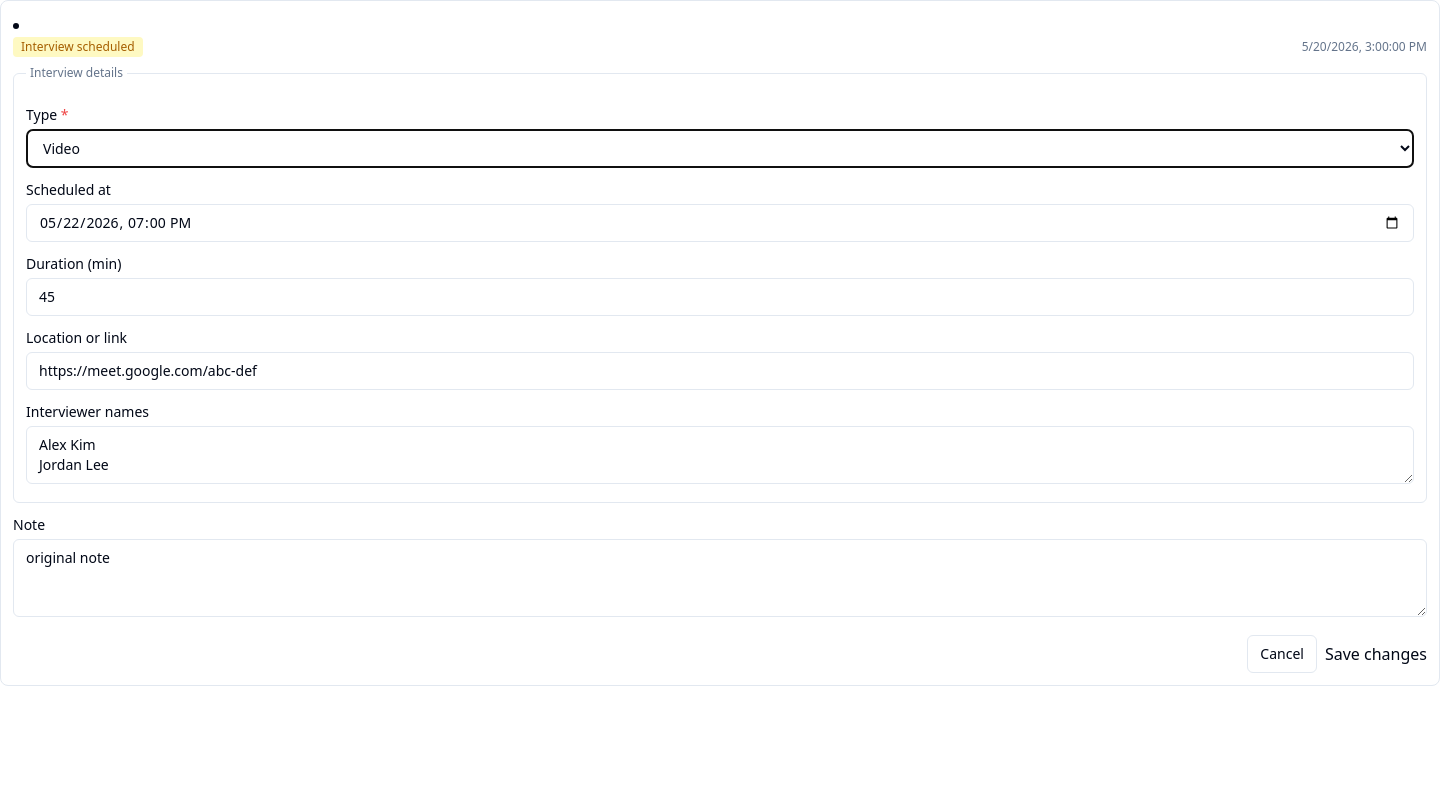
EventListItem — inline edit form › blocks save when the type was cleared
The width and height of the screenshot is (1440, 810).
Select "Select…" in the dropdown labelled "Type *" at point(720, 148), box [26,129,1414,168]
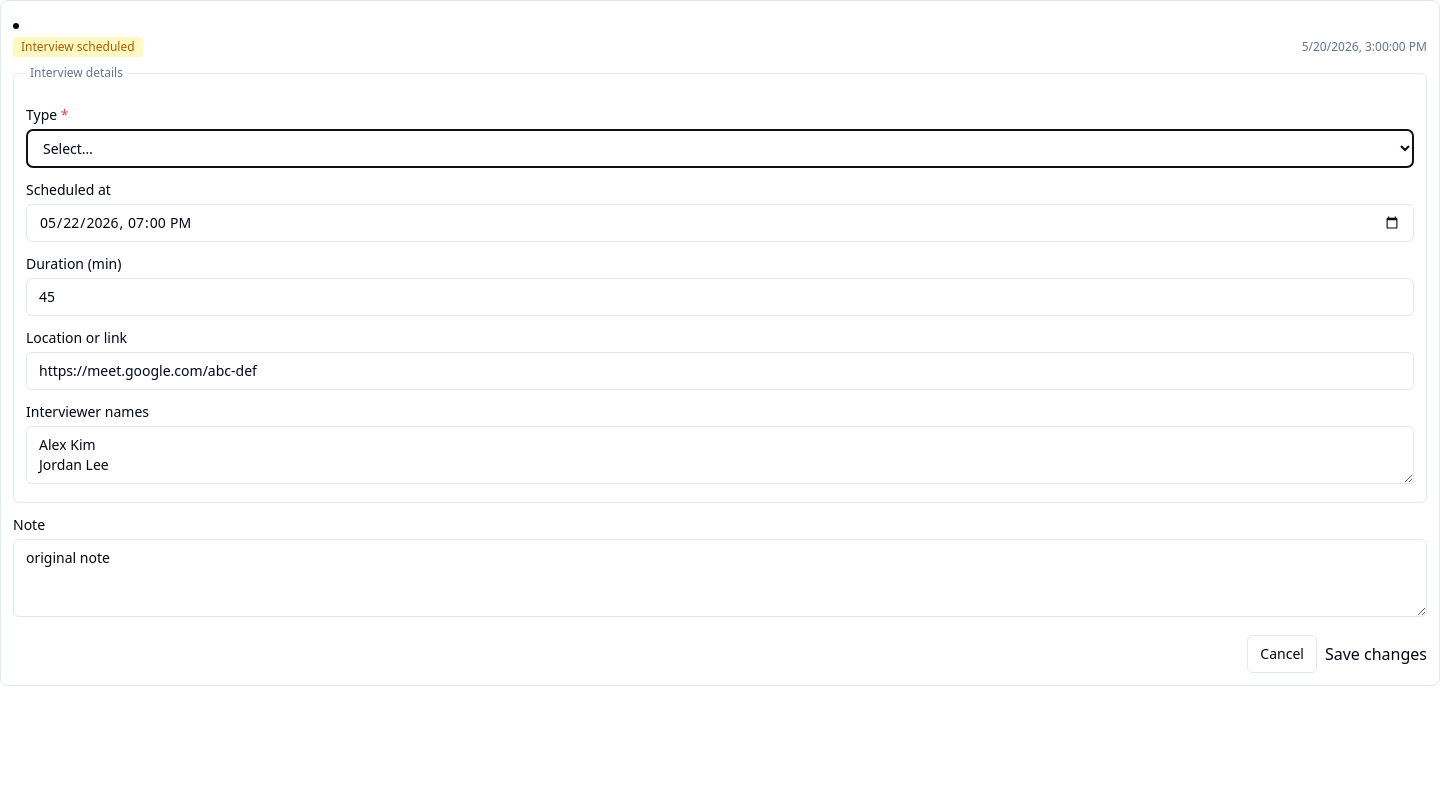
Click the button "Save changes" at point(1376, 654), box [1325,635,1427,673]
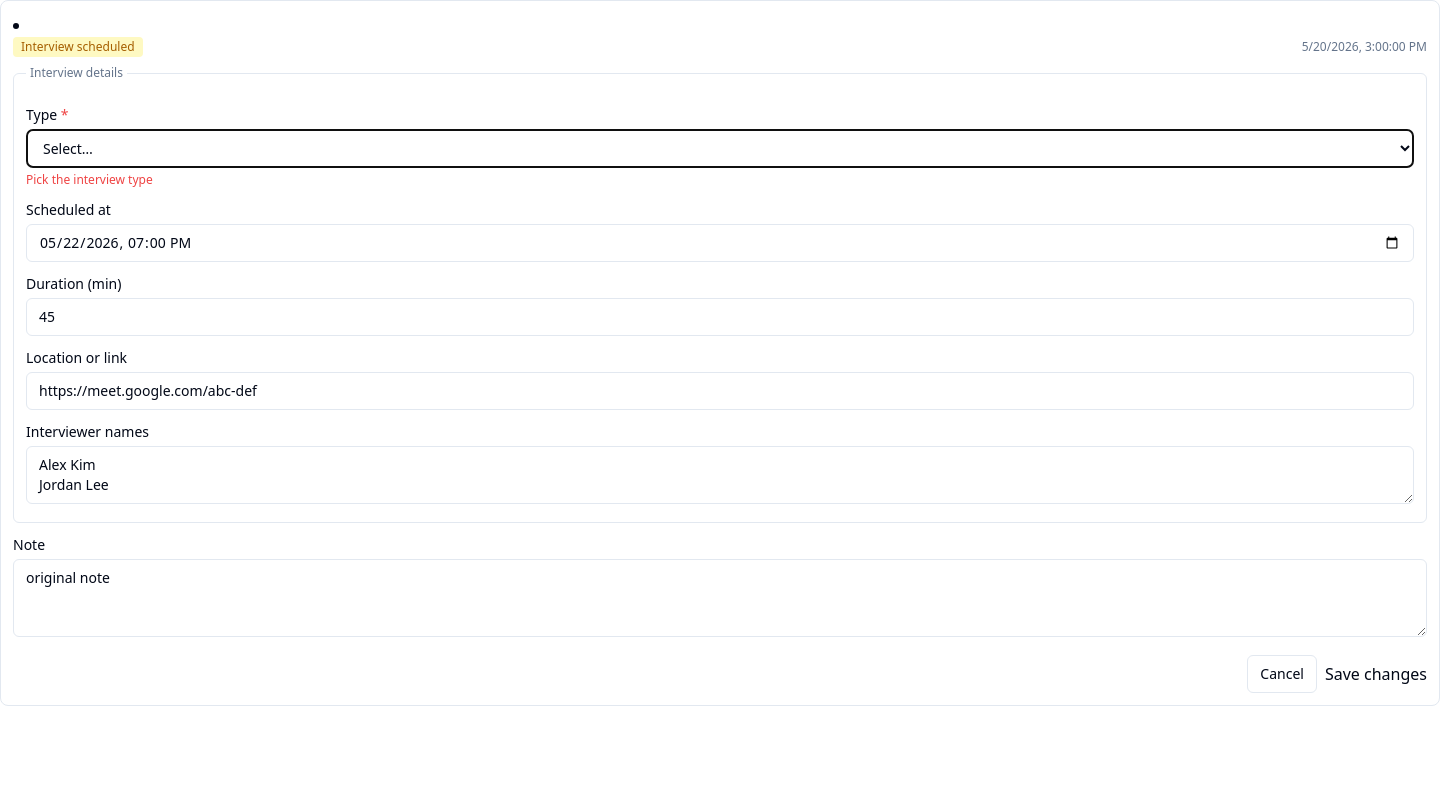
Result: the text "Pick the interview type" is shown at [26,171,153,188]
